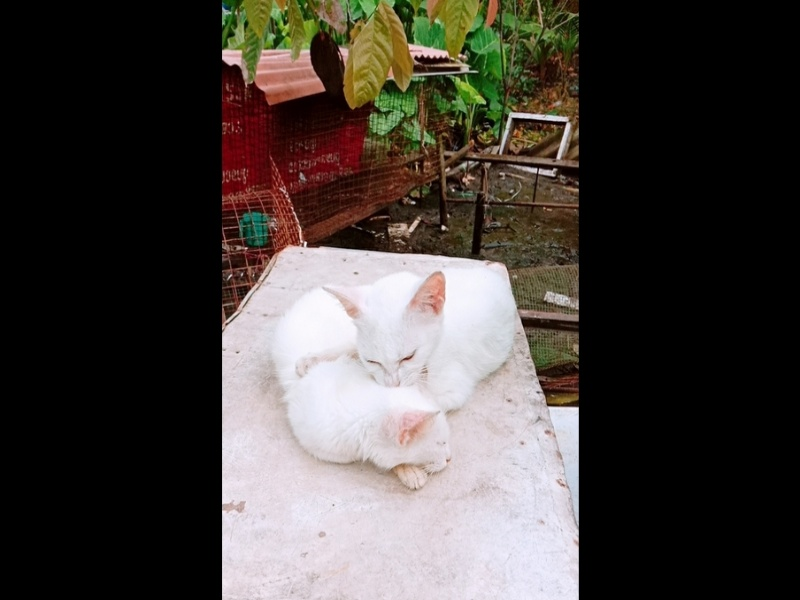cat: (271, 240, 521, 503)
